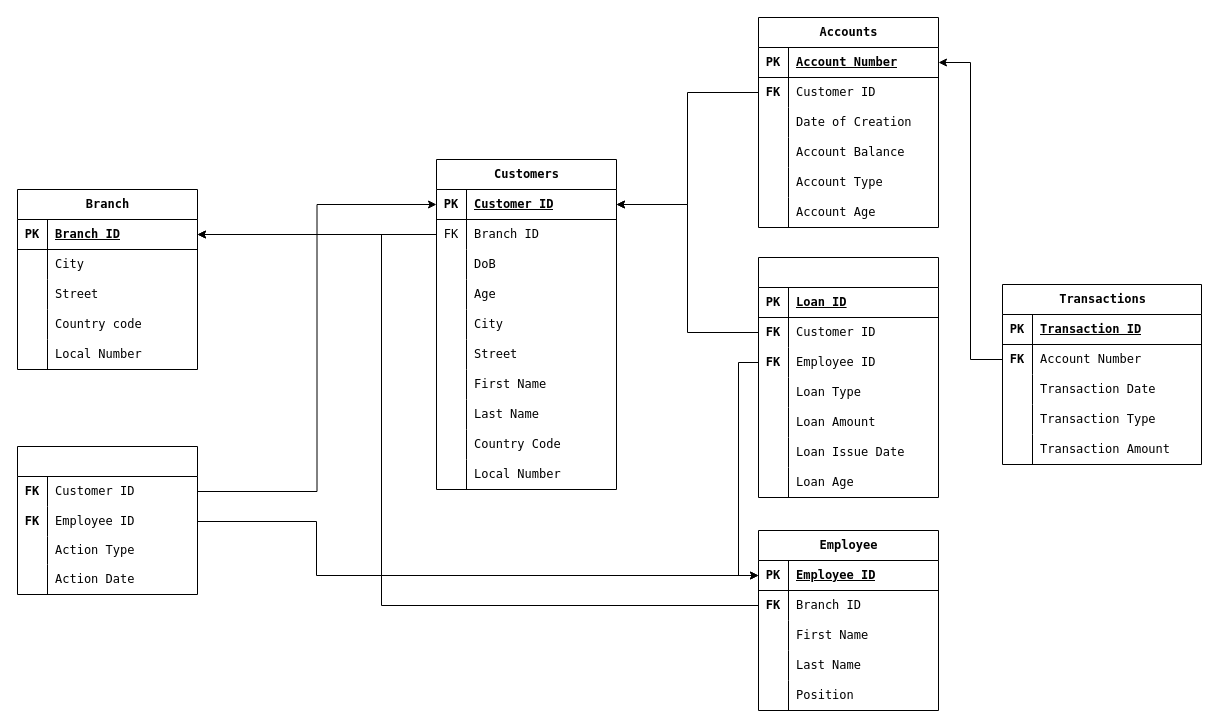
Some shapes in this 1219 by 728 pixel diagram are drawn without their labels. Each missing label, with the box of its shape:
Employee Assistance: (16, 446, 198, 594)
Loans: (758, 256, 938, 498)
